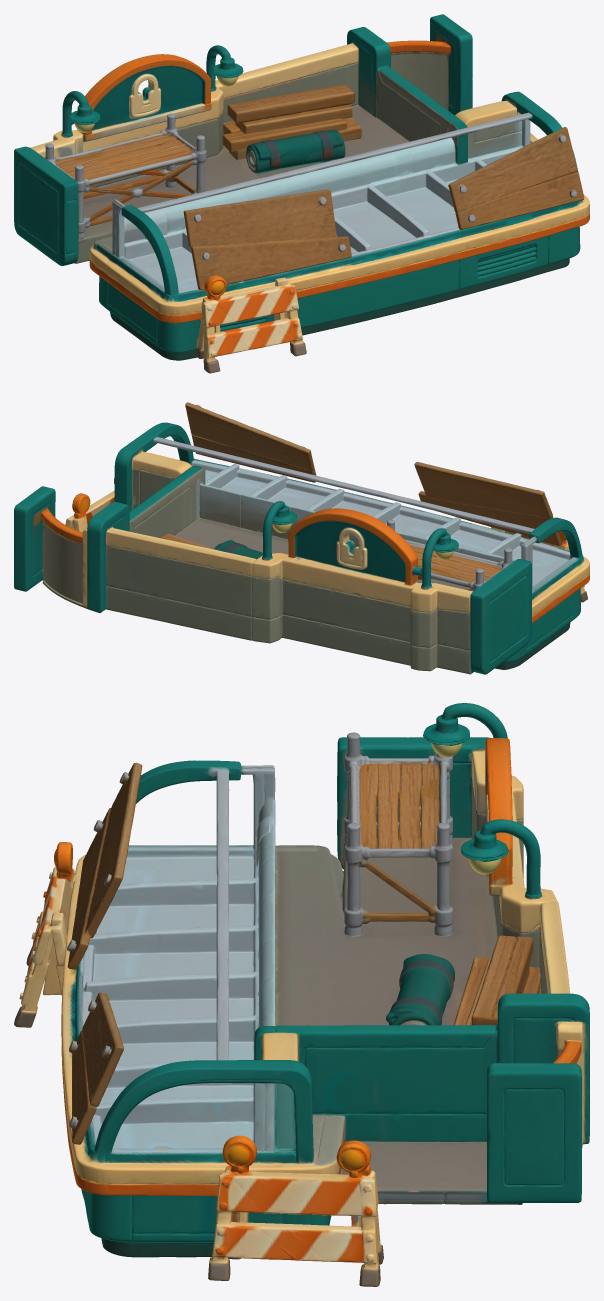
The model's file is ButcheryConstruction.fbx.
3 views of the same model, one above another, from view 1: azimuth 30°, elevation 25°; view 2: azimuth 150°, elevation 25°; view 3: azimuth 270°, elevation 25° (orthographic). The views are drawn at different scales.
Parts seen in each view (by area): view 1: tripo_node_d19c09b9-e01b-4f4e-a43c-f3cf853cb26f; view 2: tripo_node_d19c09b9-e01b-4f4e-a43c-f3cf853cb26f; view 3: tripo_node_d19c09b9-e01b-4f4e-a43c-f3cf853cb26f.
Part boxes in pixels (x1,y1,x2,y2): tripo_node_d19c09b9-e01b-4f4e-a43c-f3cf853cb26f: [14, 14, 589, 373]; tripo_node_d19c09b9-e01b-4f4e-a43c-f3cf853cb26f: [14, 402, 589, 674]; tripo_node_d19c09b9-e01b-4f4e-a43c-f3cf853cb26f: [14, 703, 589, 1286].
Bounding box in the file's own units: 98.17 × 35.62 × 66.
1 material, 1 textured.
